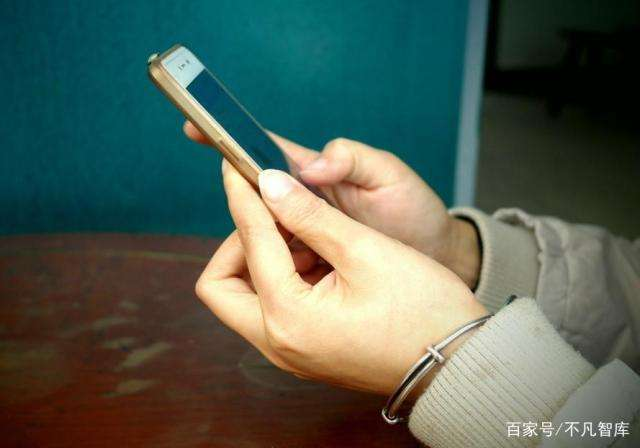reading: (144, 39, 465, 392)
